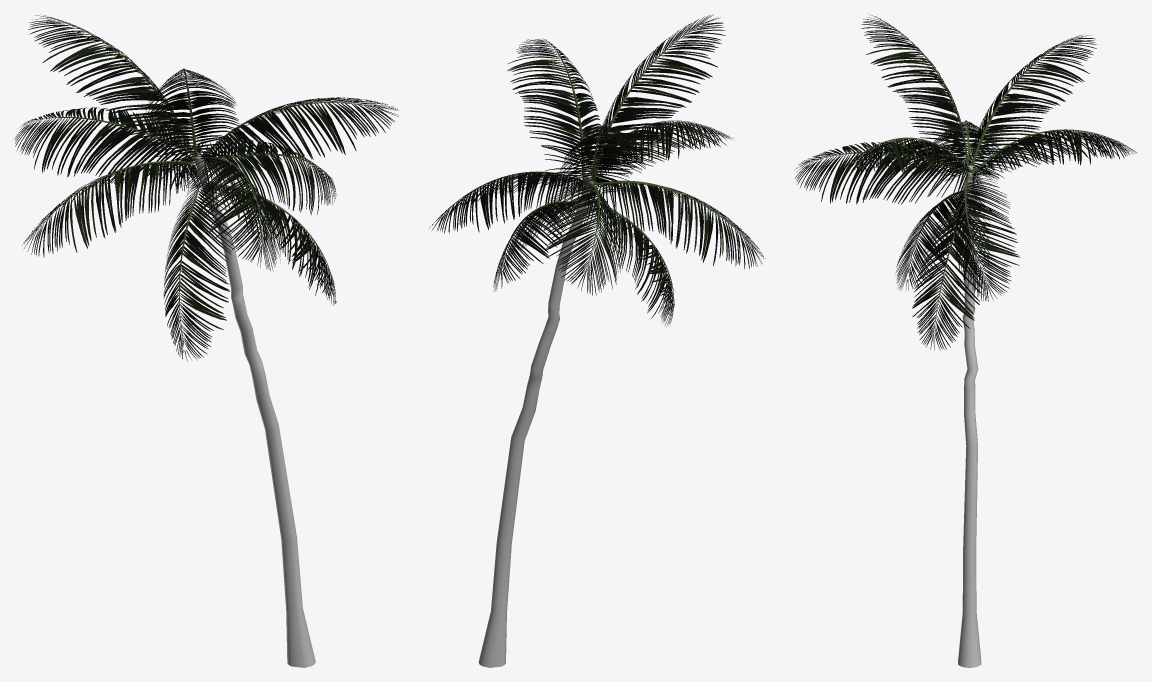
File: PalmTree.glb
3 renders of one model, left to right at view 1: azimuth 30°, elevation 25°; view 2: azimuth 150°, elevation 25°; view 3: azimuth 270°, elevation 25°, orthographic. The views are drawn at different scales.
Parts seen in each view (by area): view 1: mesh_id6, mesh_id8, mesh_id7, mesh_id5, mesh_id9; view 2: mesh_id6, mesh_id8, mesh_id7, mesh_id5, mesh_id9; view 3: mesh_id6, mesh_id8, mesh_id7, mesh_id5, mesh_id9.
Part boxes in pixels (x1,y1,x2,y2): mesh_id6: (14,15,398,361); mesh_id8: (15,20,397,357); mesh_id7: (21,22,384,346); mesh_id5: (194,153,315,667); mesh_id9: (27,19,376,344); mesh_id6: (429,15,765,325); mesh_id8: (430,15,763,326); mesh_id7: (436,20,757,320); mesh_id5: (478,174,595,667); mesh_id9: (444,24,751,306); mesh_id6: (794,14,1136,350); mesh_id8: (797,18,1135,349); mesh_id7: (806,27,1126,341); mesh_id5: (958,165,981,667); mesh_id9: (807,22,1119,333).
Size of the model in its own units: 0.2618 by 0.512 by 0.2773.
Materials: 5 (5 with a texture image).
